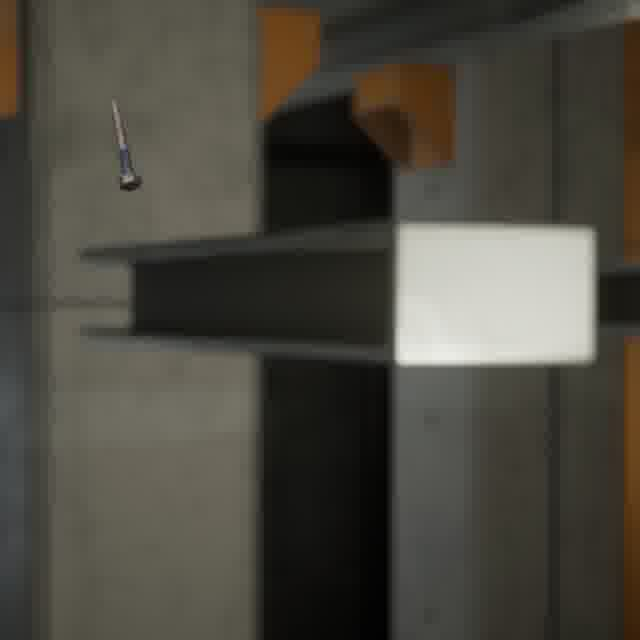bolt: (106, 95, 146, 195)
